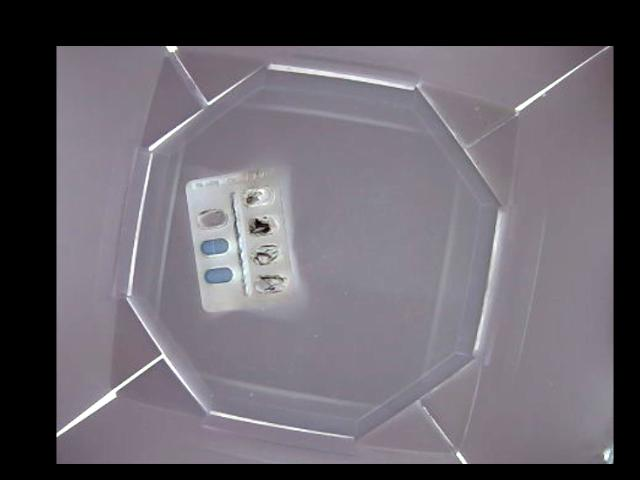Medicine: (186, 167, 294, 313)
